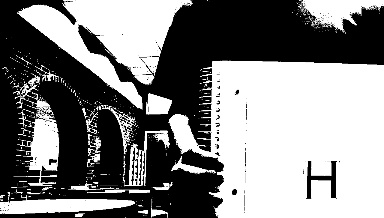H: (302, 157, 340, 198)
